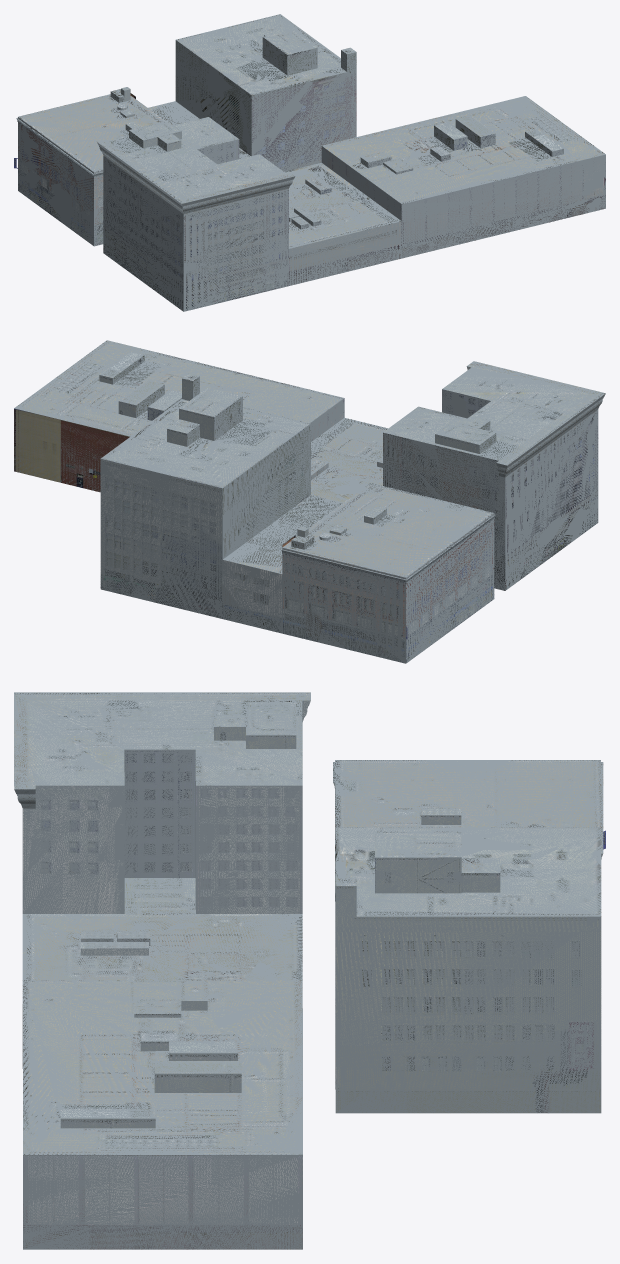
File: Building_10.fbx
3 views of the same model, one above another, from view 1: azimuth 30°, elevation 25°; view 2: azimuth 150°, elevation 25°; view 3: azimuth 270°, elevation 25° (orthographic). The views are drawn at different scales.
Parts seen in each view (by area): view 1: SPLIT__Stout_Champa_15th_16th1; view 2: SPLIT__Stout_Champa_15th_16th1; view 3: SPLIT__Stout_Champa_15th_16th1.
Boxes of the visible parts, <box> form: SPLIT__Stout_Champa_15th_16th1: <box>14,14,605,311</box>; SPLIT__Stout_Champa_15th_16th1: <box>14,340,605,663</box>; SPLIT__Stout_Champa_15th_16th1: <box>14,692,605,1249</box>.
Size of the model in its own units: 4857 by 1446 by 3340.
